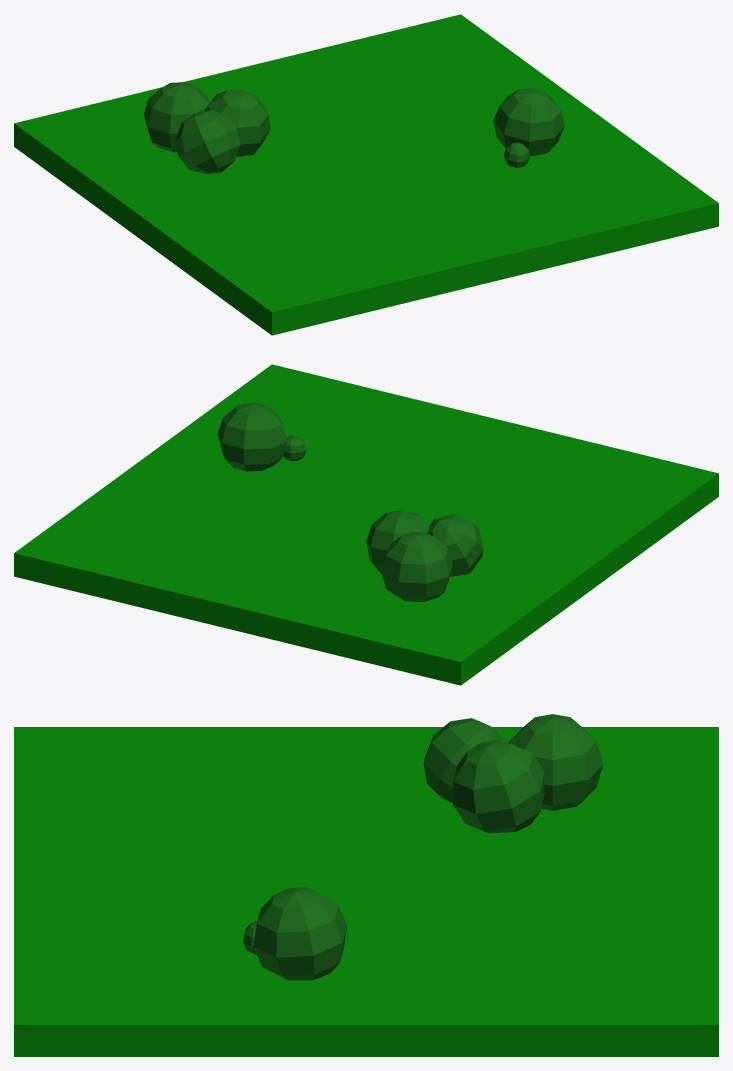
Rendered from ParkPrefab.fbx.
3 renders of one model, top to bottom at view 1: azimuth 30°, elevation 25°; view 2: azimuth 150°, elevation 25°; view 3: azimuth 270°, elevation 25°, orthographic. The views are drawn at different scales.
Visible parts, largest first — view 1: Grass, pSphere4, pSphere3, pSphere1, pSphere2, pSphere5; view 2: Grass, pSphere1, pSphere4, pSphere3, pSphere2; view 3: Grass, pSphere2, pSphere4, pSphere1, pSphere3.
Boxes of the visible parts, box(x1,y1,x2,y2) form: Grass: box(14, 14, 718, 335); pSphere4: box(493, 88, 564, 156); pSphere3: box(175, 110, 240, 174); pSphere1: box(143, 82, 209, 152); pSphere2: box(204, 89, 270, 156); pSphere5: box(504, 142, 530, 167); Grass: box(14, 364, 718, 685); pSphere1: box(381, 532, 452, 602); pSphere4: box(217, 403, 286, 471); pSphere3: box(427, 513, 483, 576); pSphere2: box(366, 510, 429, 574); Grass: box(14, 727, 718, 1056); pSphere2: box(453, 739, 544, 833); pSphere4: box(253, 887, 347, 980); pSphere1: box(508, 714, 603, 810); pSphere3: box(423, 718, 505, 803).
Size of the model in its own units: 20 by 3.45 by 20.
